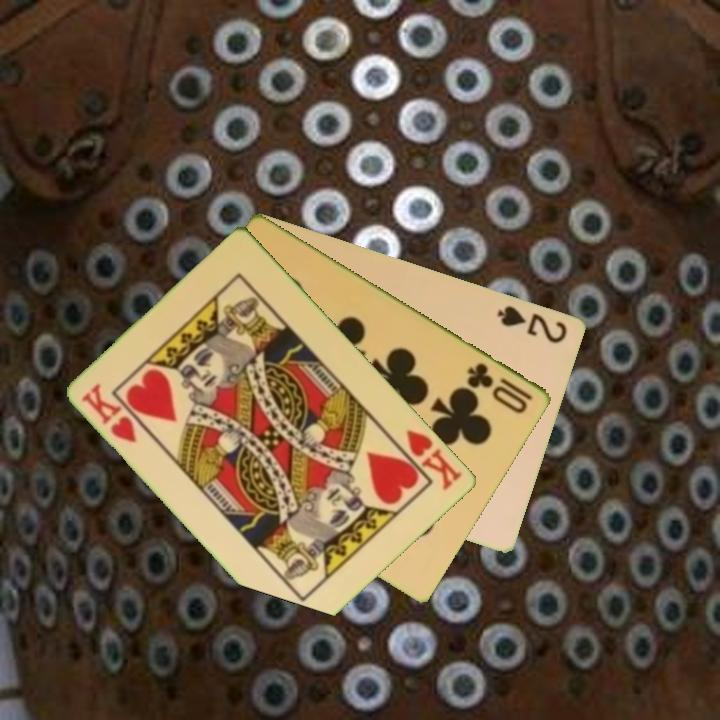10c: (464, 359, 536, 417)
2s: (494, 301, 571, 346)
Kh: (390, 426, 466, 494), (78, 379, 141, 447)
